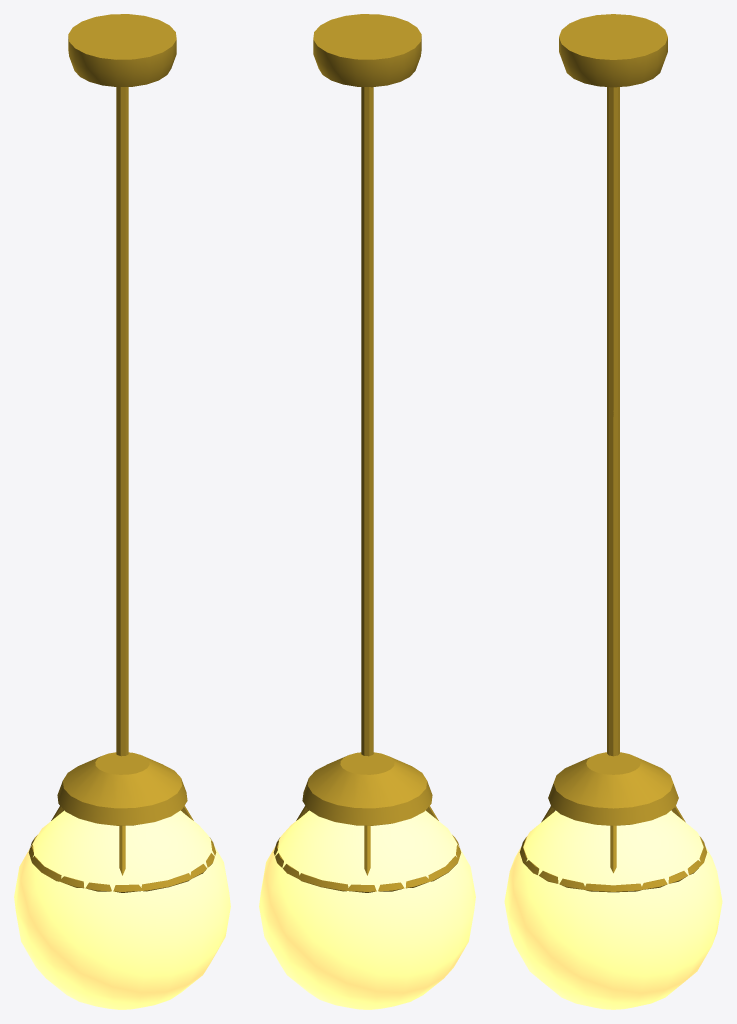
File: prop_pendant_brass.glb
3 views of the same model, side by side, from view 1: azimuth 30°, elevation 25°; view 2: azimuth 150°, elevation 25°; view 3: azimuth 270°, elevation 25° (orthographic).
Visible parts, largest first — view 1: Pendant; view 2: Pendant; view 3: Pendant.
Boxes of the visible parts, x1=… form: Pendant: x1=14, y1=14, x2=230, y2=1009; Pendant: x1=259, y1=14, x2=475, y2=1009; Pendant: x1=504, y1=14, x2=722, y2=1009.
Size of the model in its own units: 0.4 by 1.95 by 0.4.
